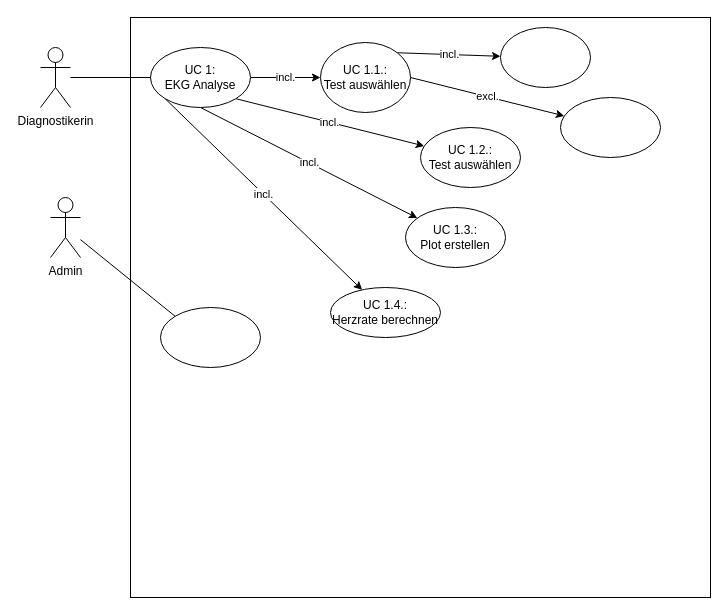
The diagram is 728 pixels wide and 615 high, and some of its shapes have lost their labels. Here are the shapes that lost their labels. From the top down, the box of each, then its label:
(500, 26, 590, 88): UC 1.1.1.: alle Personen finden
(560, 96, 660, 158): UC 1.1.2.: Person anzeigen
(160, 306, 260, 368): UC 2: Perosn anlegen
